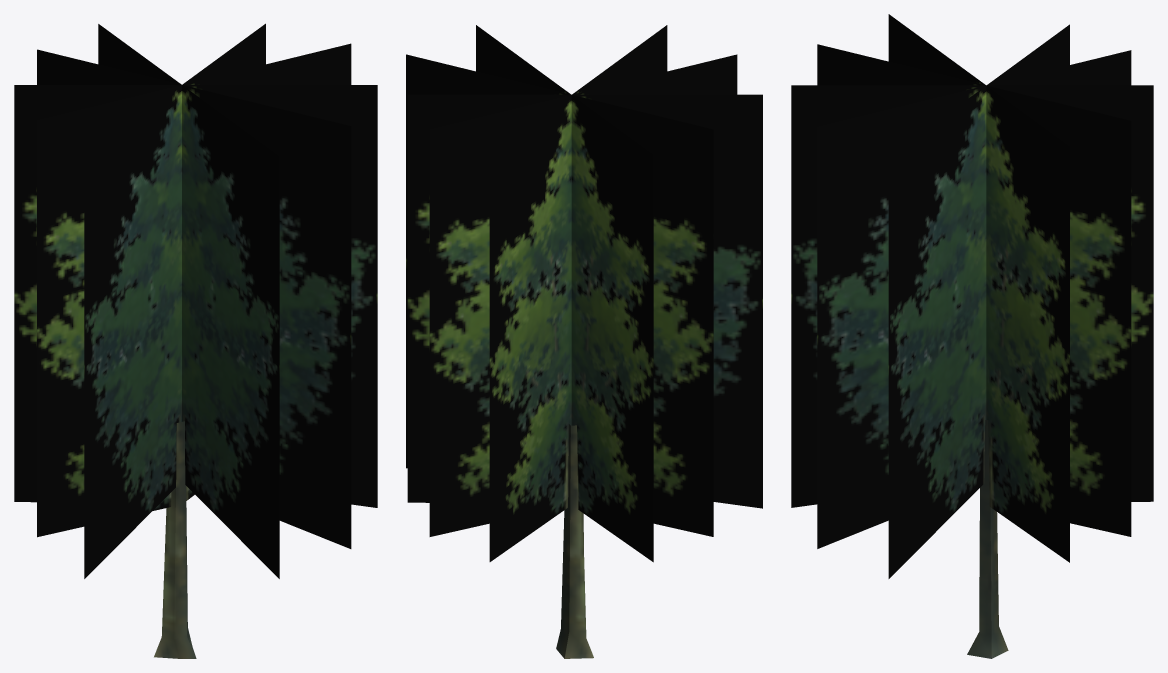
Rendered from TREE01.glb.
The picture shows the model from 3 angles, left to right: view 1: azimuth 30°, elevation 25°; view 2: azimuth 150°, elevation 25°; view 3: azimuth 270°, elevation 25°; orthographic projection. The views are drawn at different scales.
Parts seen in each view (by area): view 1: FRAME_ROOT; view 2: FRAME_ROOT; view 3: FRAME_ROOT.
Boxes of the visible parts, <box> form: FRAME_ROOT: <box>14,23,377,658</box>; FRAME_ROOT: <box>406,25,762,658</box>; FRAME_ROOT: <box>791,14,1153,658</box>.
Size of the model in its own units: 17.39 by 29.87 by 17.31.
Materials: 1 (1 with a texture image).
